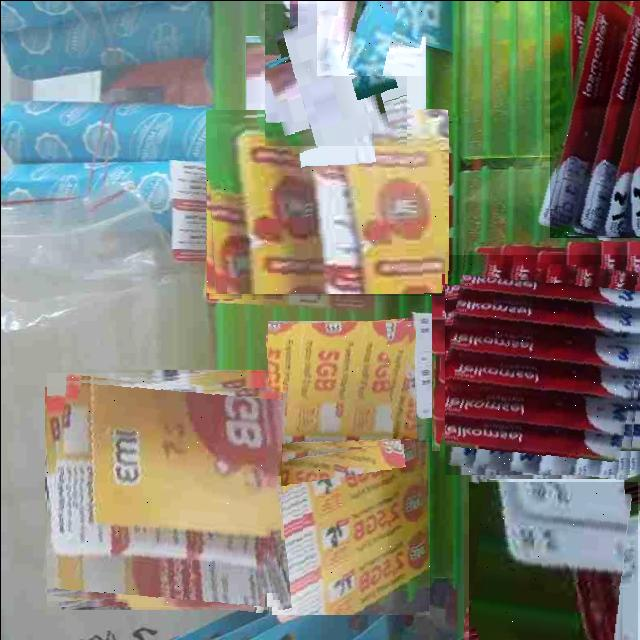Indosat-3: (264, 3, 406, 145)
Telkomsel: (444, 254, 640, 474), (468, 481, 637, 640), (549, 0, 640, 237)
byu: (316, 0, 424, 75)
im3: (46, 372, 282, 606), (205, 110, 448, 298), (266, 441, 429, 614), (267, 320, 416, 469)
